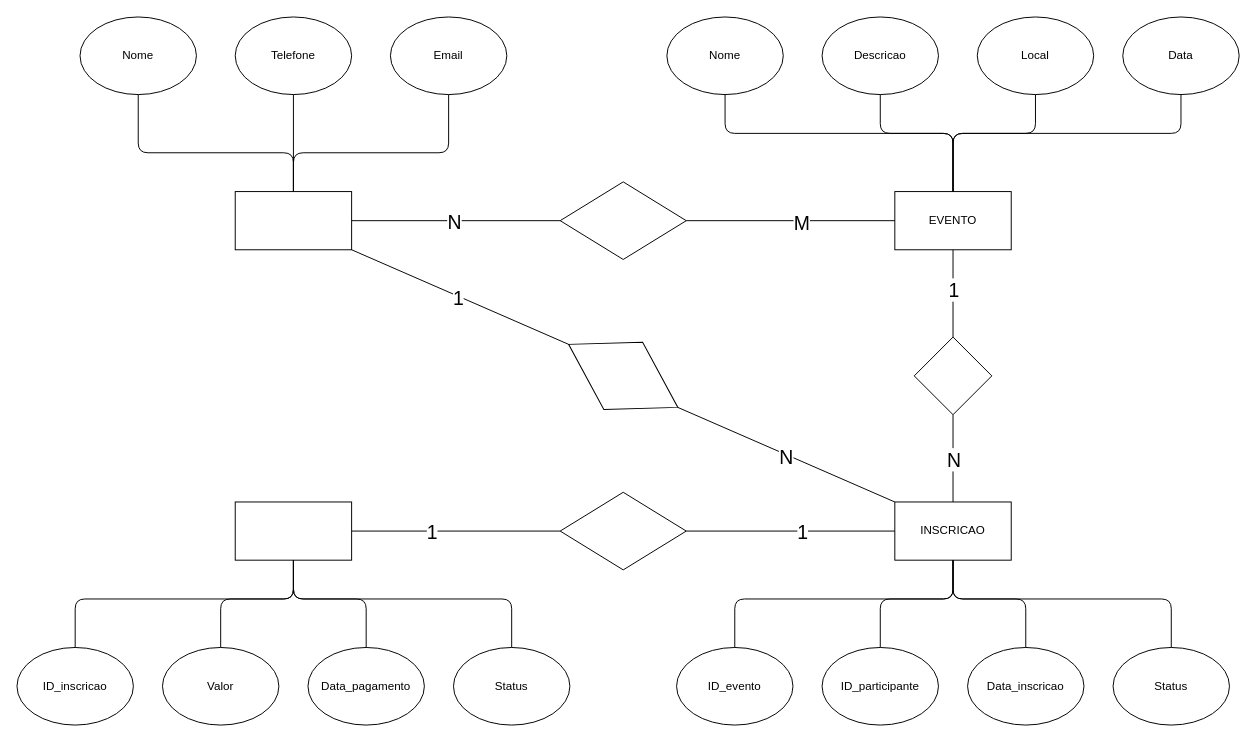
Some shapes in this 1256 by 742 pixel diagram are drawn without their labels. Each missing label, with the box of its shape:
CONTÉM: (913, 336, 992, 415)
FAZ: (548, 310, 697, 441)
PAGAMENTO: (234, 501, 352, 560)
PARTICIPA: (559, 181, 686, 259)
PARTICIPANTE: (234, 191, 352, 250)
POSSUI: (559, 491, 686, 570)
